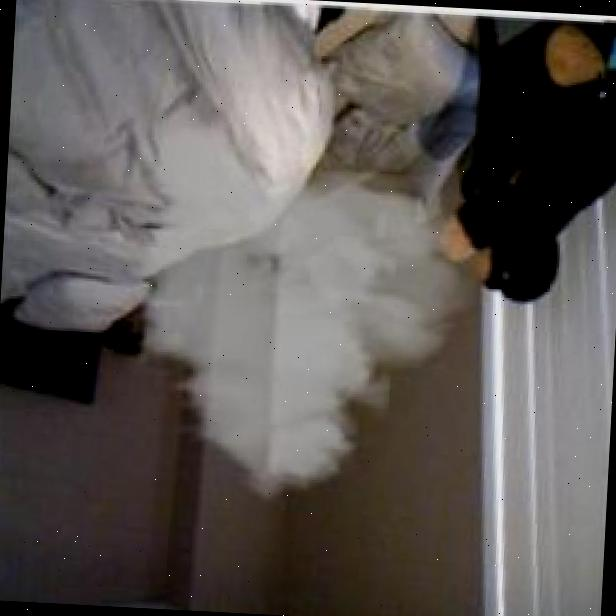smoke: (111, 98, 484, 522)
